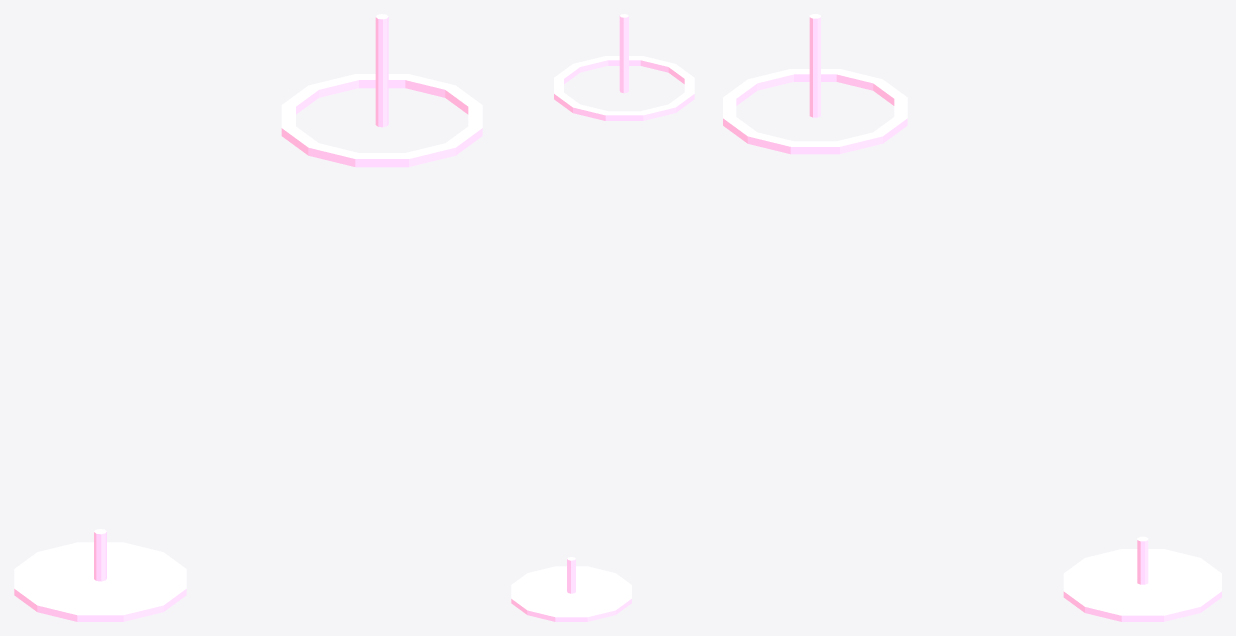
Rendered from hall_ov_launch.glb.
3 renders of one model, left to right at view 1: azimuth 30°, elevation 25°; view 2: azimuth 150°, elevation 25°; view 3: azimuth 270°, elevation 25°, orthographic. The views are drawn at different scales.
Visible parts, largest first — view 1: hall_ov_launch; view 2: hall_ov_launch; view 3: hall_ov_launch.
Boxes of the visible parts, x1=… form: hall_ov_launch: x1=14, y1=14, x2=482, y2=621; hall_ov_launch: x1=511, y1=14, x2=694, y2=621; hall_ov_launch: x1=723, y1=14, x2=1221, y2=621.
Bounding box in the file's own units: 10.28 × 25 × 18.28.
